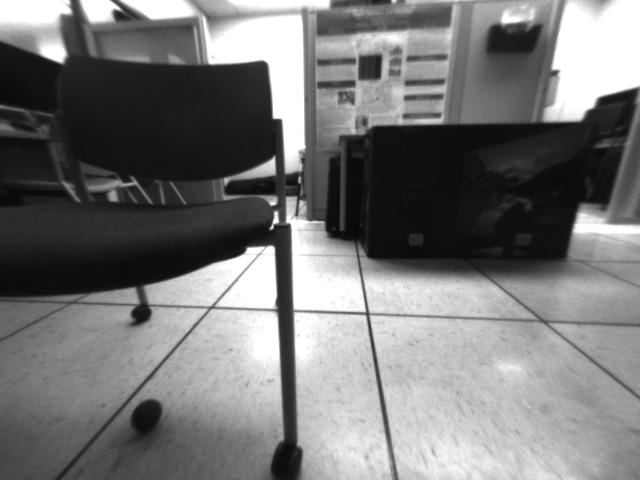dogtoy: (127, 393, 168, 438)
